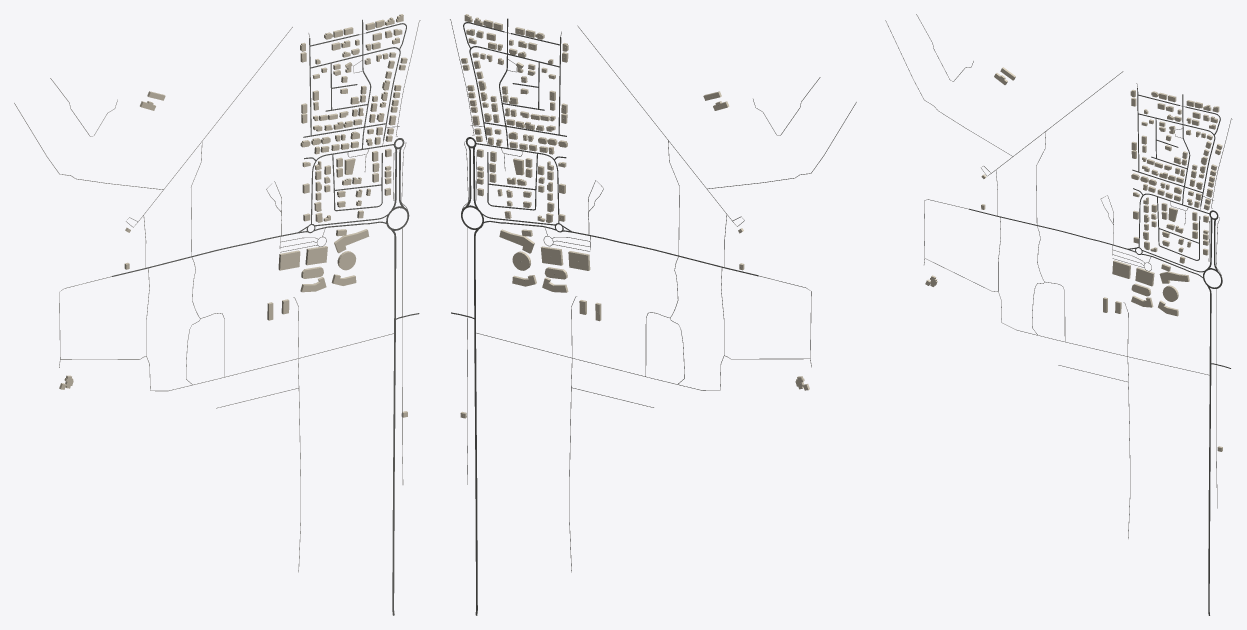
File: historic-palestine-07_28_3487_3226.glb
The picture shows the model from 3 angles, left to right: view 1: azimuth 30°, elevation 25°; view 2: azimuth 150°, elevation 25°; view 3: azimuth 330°, elevation 25°; orthographic projection. The views are drawn at different scales.
Parts seen in each view (by area): view 1: Road רבין; view 2: Road רבין; view 3: Road רבין.
Boxes of the visible parts, left/top/right/bottom form: Road רבין: left=391, top=230, right=396, bottom=615; Road רבין: left=474, top=228, right=478, bottom=615; Road רבין: left=1207, top=285, right=1211, bottom=615.
Size of the model in its own units: 1143 by 1668 by 8.7.
